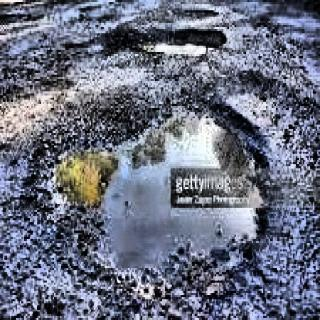pothole: (40, 90, 268, 286), (128, 26, 226, 53), (186, 8, 218, 16)
